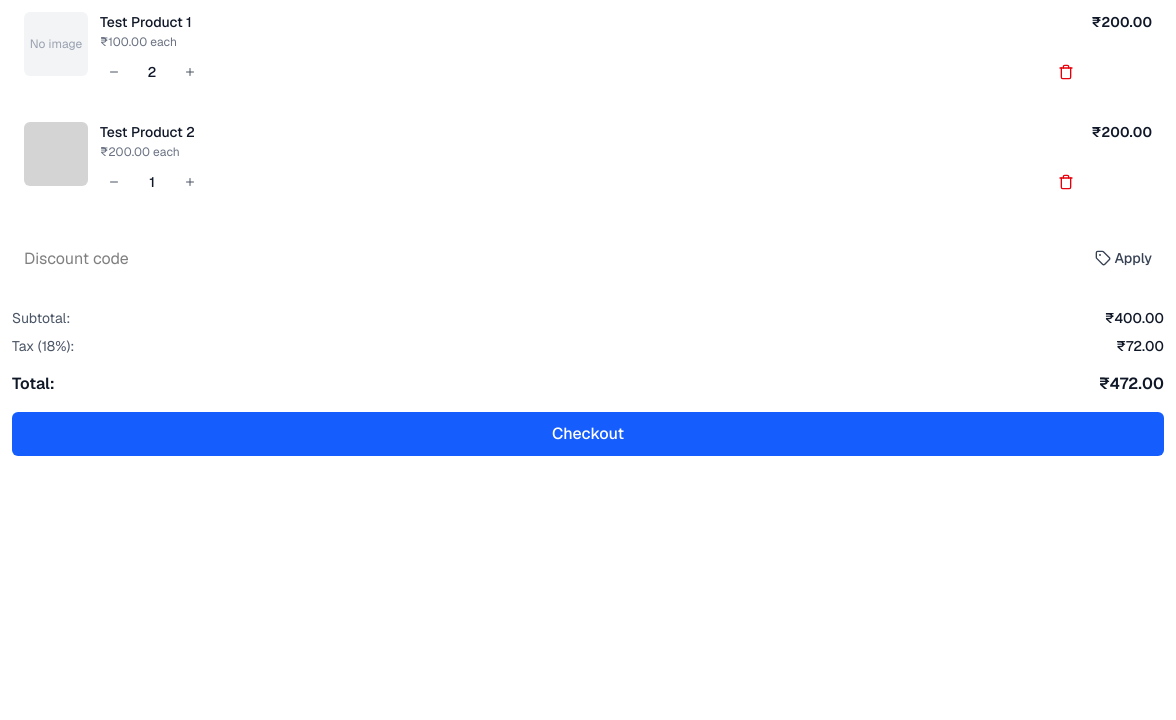
Test case: ShoppingCart › Discount Code Application › should display success message when discount is applied
In the field with placeholder "Discount code": (543, 258) [12,240,1074,276], type "SAVE10"
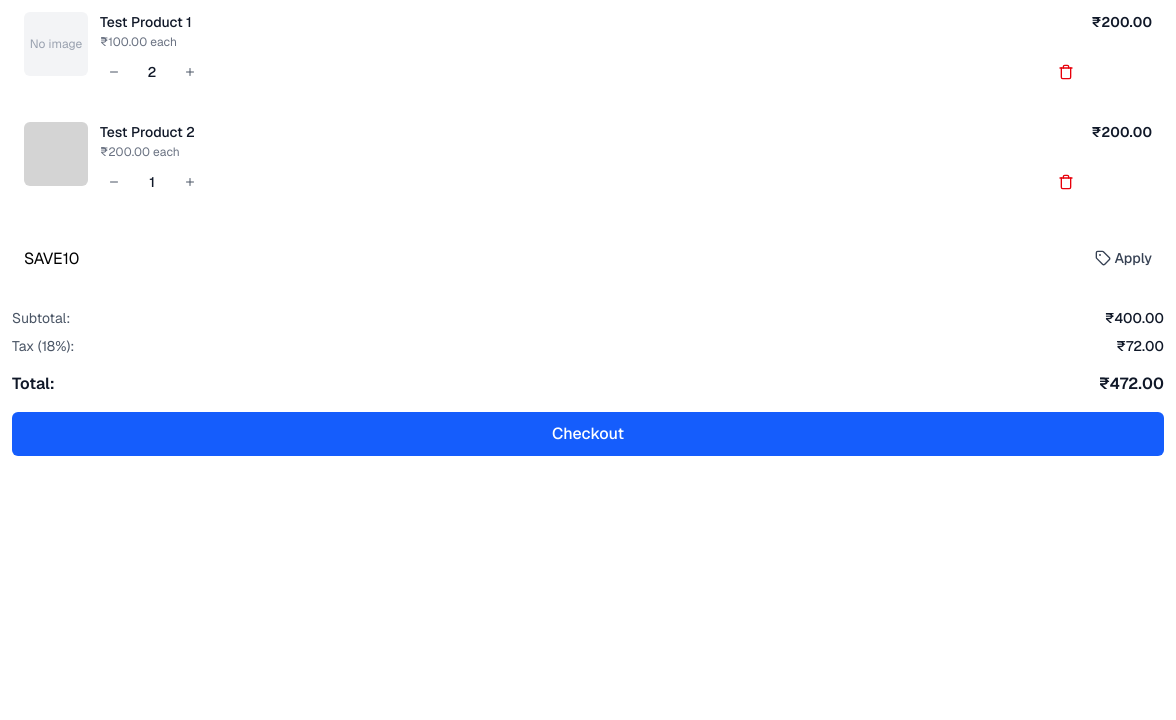
Click the button with aria-label "Apply discount code": click(1123, 258) [1082,240,1164,276]
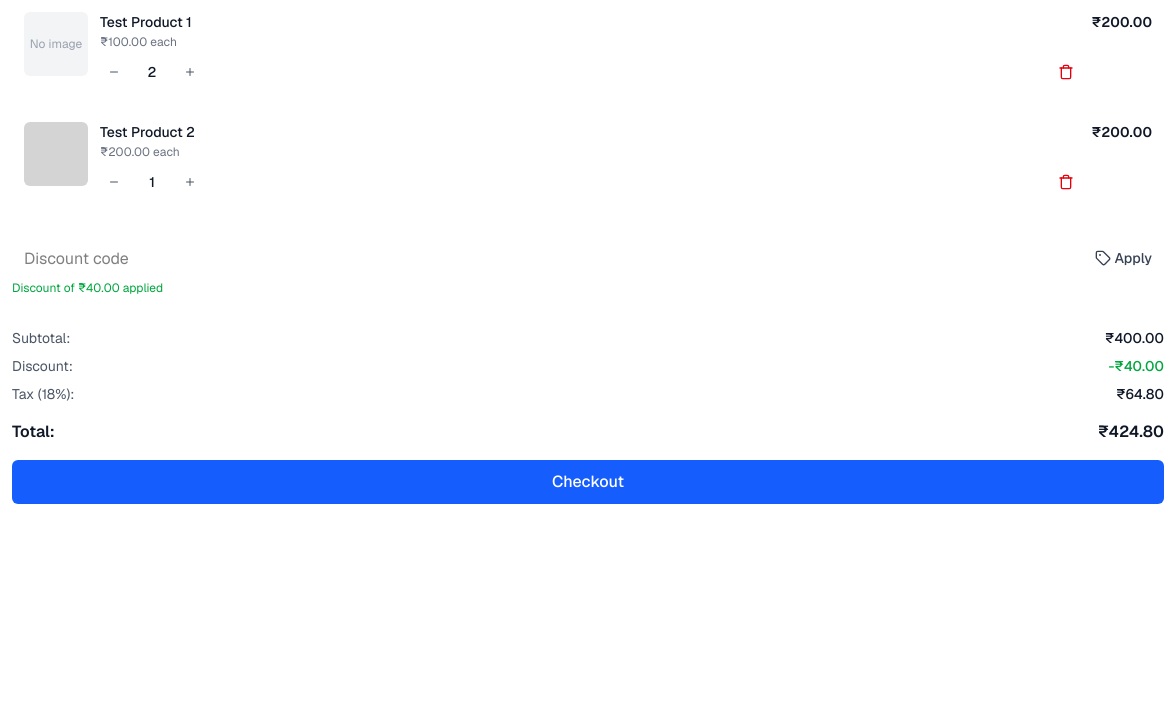
Expected: the text "Discount of ₹40.00 applied" is shown, [12,280,163,296]
